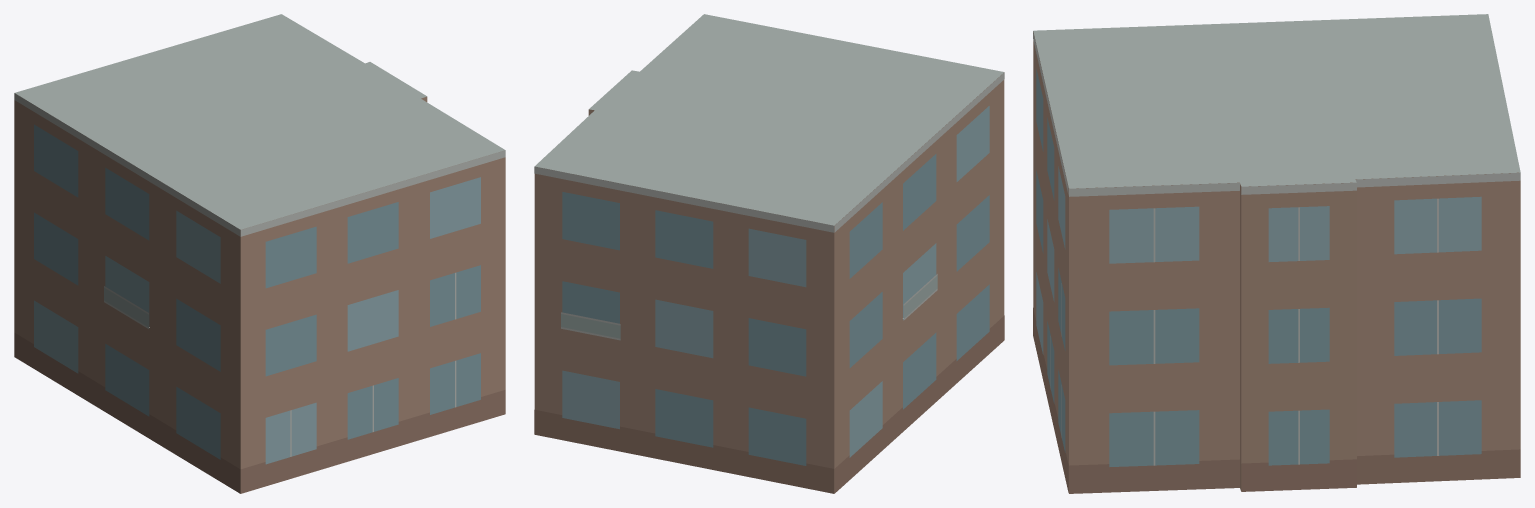
File: survey-upis-32952599.glb
3 views of the same model, side by side, from view 1: azimuth 30°, elevation 25°; view 2: azimuth 150°, elevation 25°; view 3: azimuth 270°, elevation 25° (orthographic). The views are drawn at different scales.
Visible parts, largest first — view 1: survey-upis-32952599.tmp; view 2: survey-upis-32952599.tmp; view 3: survey-upis-32952599.tmp.
Part boxes in pixels (x1,y1,x2,y2): survey-upis-32952599.tmp: (14,14,505,493); survey-upis-32952599.tmp: (534,14,1004,493); survey-upis-32952599.tmp: (1033,14,1520,493).
Bounding box in the file's own units: 11.24 × 9.15 × 13.26.
